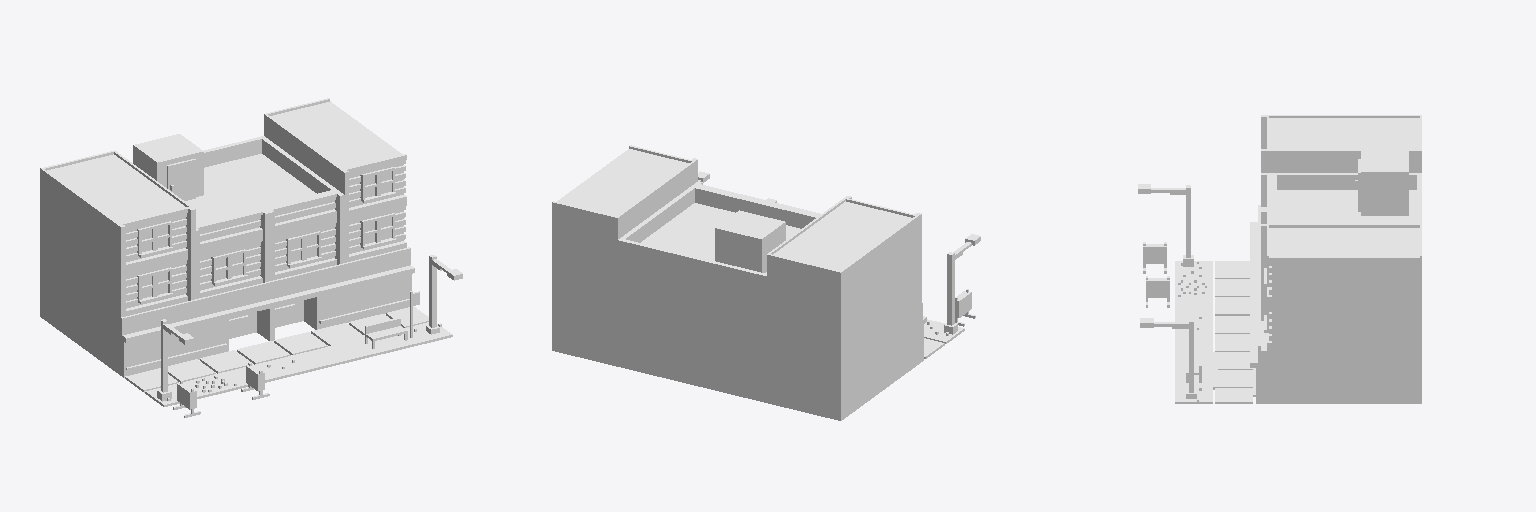
The model's file is scene_store9.obj.
3 renders of one model, left to right at view 1: azimuth 30°, elevation 25°; view 2: azimuth 150°, elevation 25°; view 3: azimuth 270°, elevation 25°, orthographic.
Size of the model in its own units: 124 by 64 by 106.